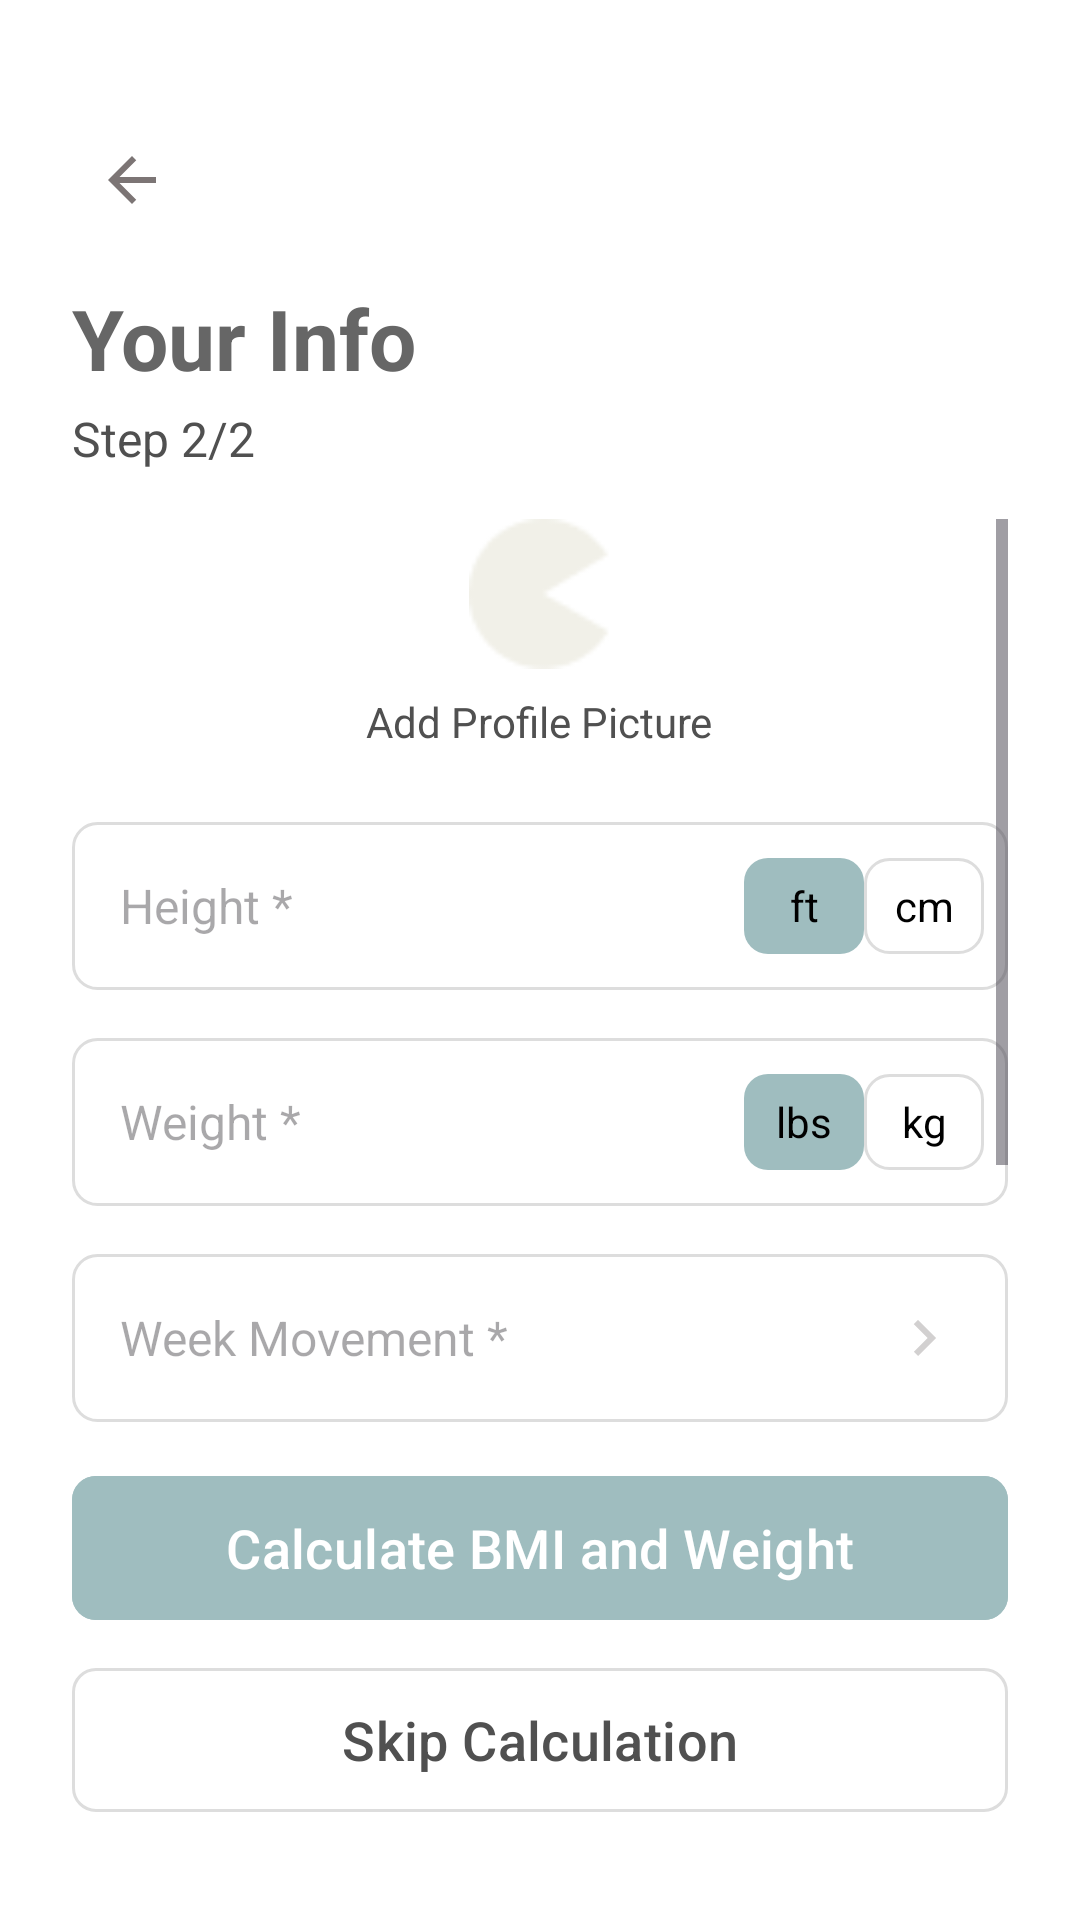

Where icons sit on this 1080px×1920px app screen, as [x1,y1,x2,y2]:
arrow back: [108,156,156,204]
